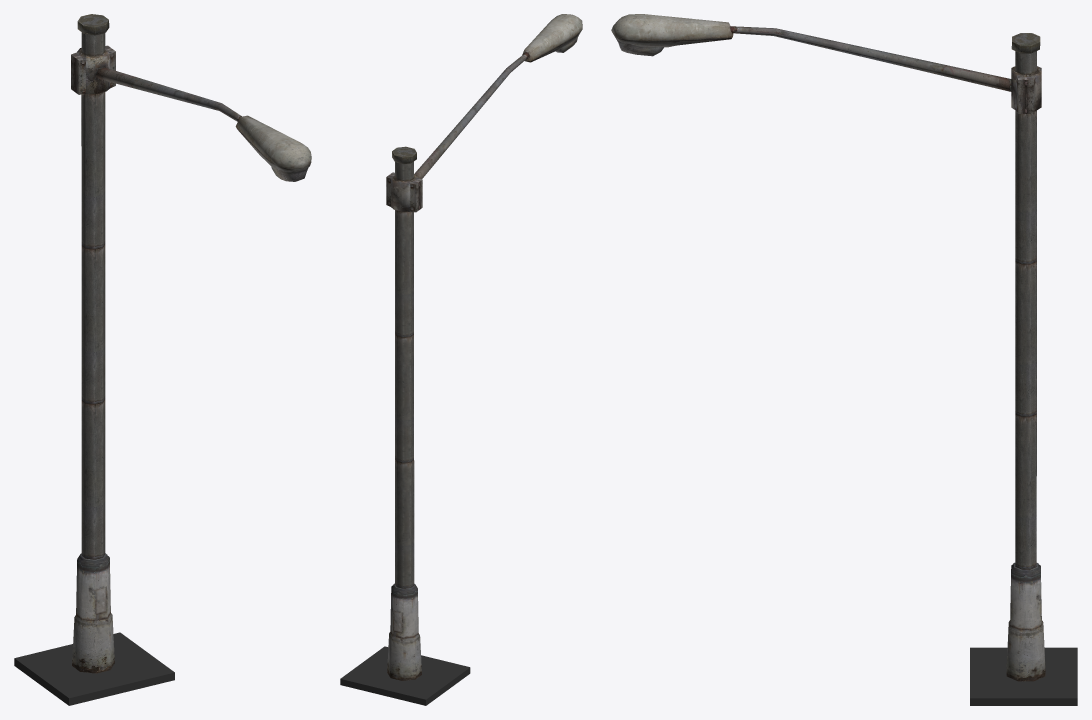
The model's file is street-light.FBX.
3 renders of one model, left to right at view 1: azimuth 30°, elevation 25°; view 2: azimuth 150°, elevation 25°; view 3: azimuth 270°, elevation 25°, orthographic. The views are drawn at different scales.
Parts seen in each view (by area): view 1: SM_NYC_Deco_StreetLight13, Box001; view 2: SM_NYC_Deco_StreetLight13, Box001; view 3: SM_NYC_Deco_StreetLight13, Box001.
Boxes of the visible parts, x1,y1,x2,y2 form: SM_NYC_Deco_StreetLight13: (71, 14, 311, 673); Box001: (14, 632, 174, 705); SM_NYC_Deco_StreetLight13: (386, 14, 582, 680); Box001: (340, 646, 470, 705); SM_NYC_Deco_StreetLight13: (611, 14, 1045, 681); Box001: (970, 647, 1077, 705).
Bounding box in the file's own units: 51.96 × 316 × 202.
2 materials, 1 textured.
